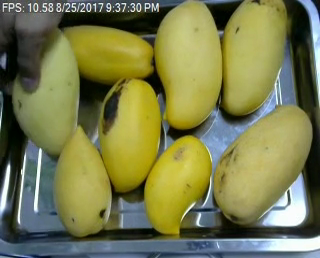Mango: (208, 101, 320, 232), (14, 23, 83, 159), (153, 3, 223, 127), (219, 0, 290, 119), (47, 126, 120, 239), (95, 76, 165, 191), (140, 127, 216, 232), (51, 23, 159, 82)
